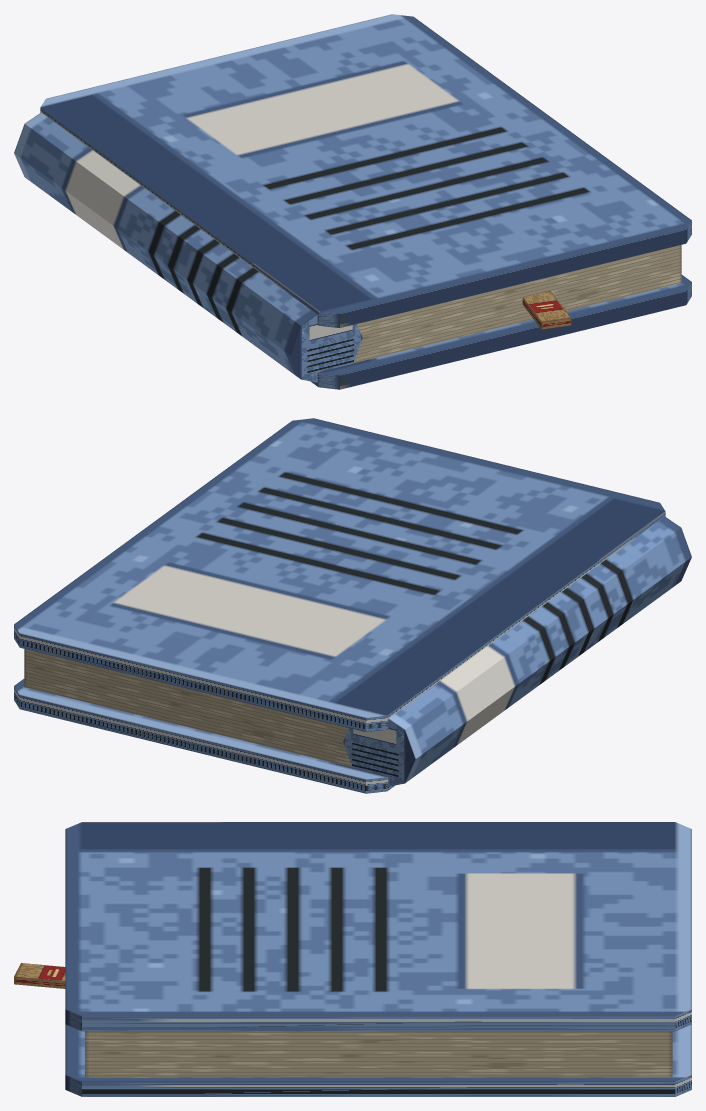
File: Item_Doc_Diary2.fbx
3 views of the same model, one above another, from view 1: azimuth 30°, elevation 25°; view 2: azimuth 150°, elevation 25°; view 3: azimuth 270°, elevation 25° (orthographic). The views are drawn at different scales.
Visible parts, largest first — view 1: Item_Doc_Diary2; view 2: Item_Doc_Diary2; view 3: Item_Doc_Diary2.
Boxes of the visible parts, x1,y1,x2,y2 form: Item_Doc_Diary2: (14, 14, 691, 389); Item_Doc_Diary2: (14, 418, 691, 793); Item_Doc_Diary2: (14, 822, 691, 1096).
Size of the model in its own units: 17.7 by 3.2 by 24.35.
